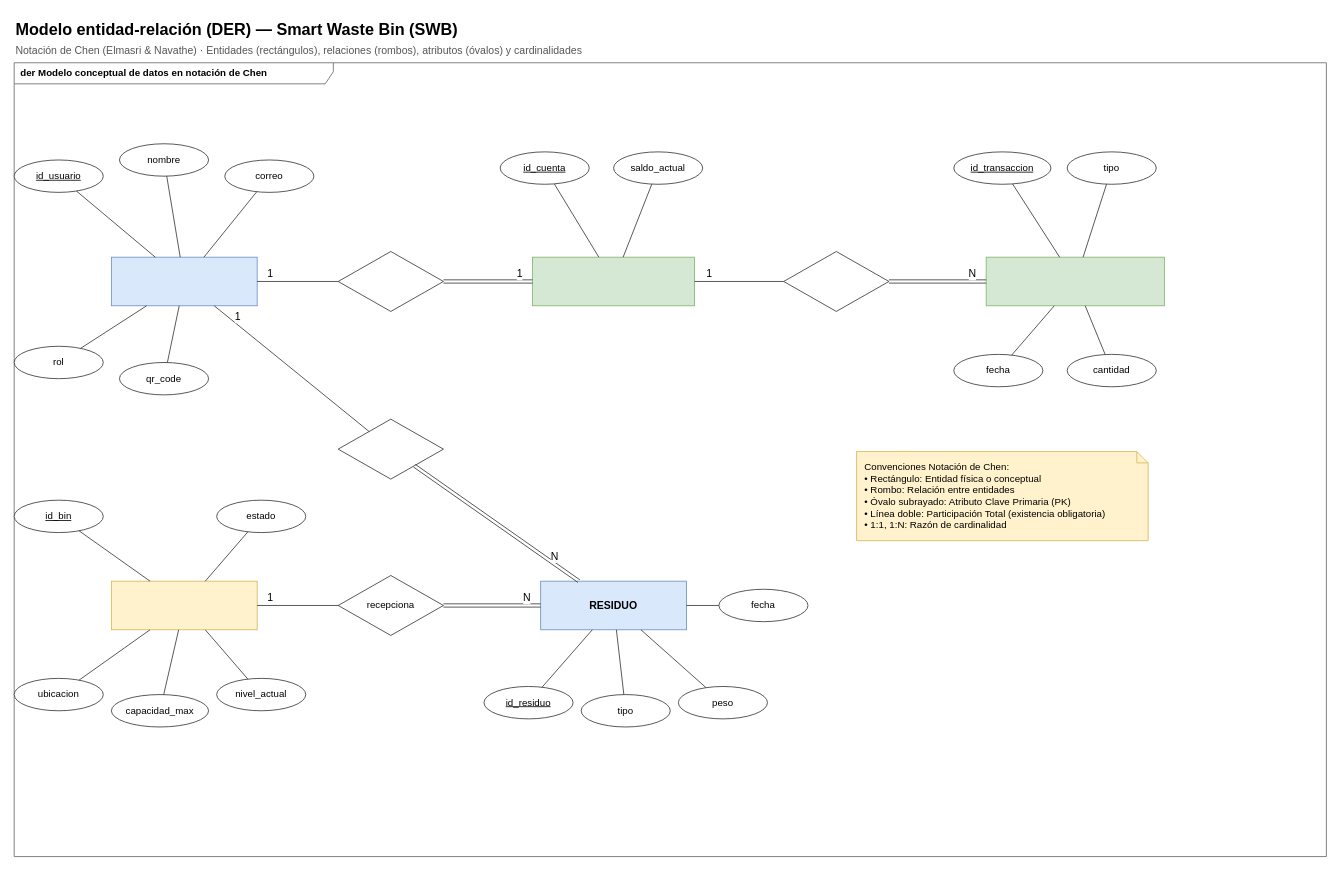
The diagram is 1341 pixels wide and 871 high, and some of its shapes have lost their labels. Here are the shapes that lost their labels. From the top down, the box of each, then its label:
(111, 256, 257, 306): USUARIO
(337, 251, 443, 311): posee
(532, 256, 695, 306): CUENTA_PUNTOS
(783, 251, 889, 311): registra
(985, 256, 1164, 306): TRANSACCION_PUNTOS
(337, 418, 443, 479): deposita
(111, 580, 257, 630): SMARTBIN
